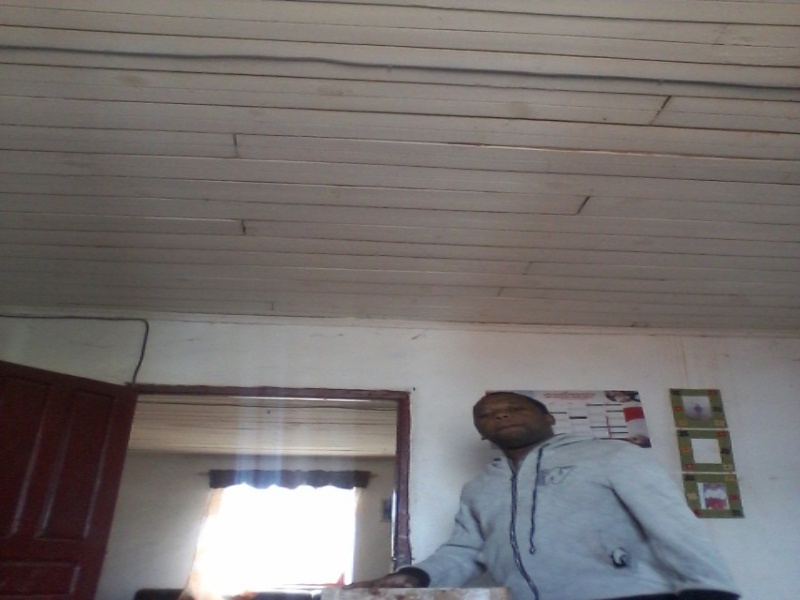TsisyArotava: (466, 384, 570, 466)
